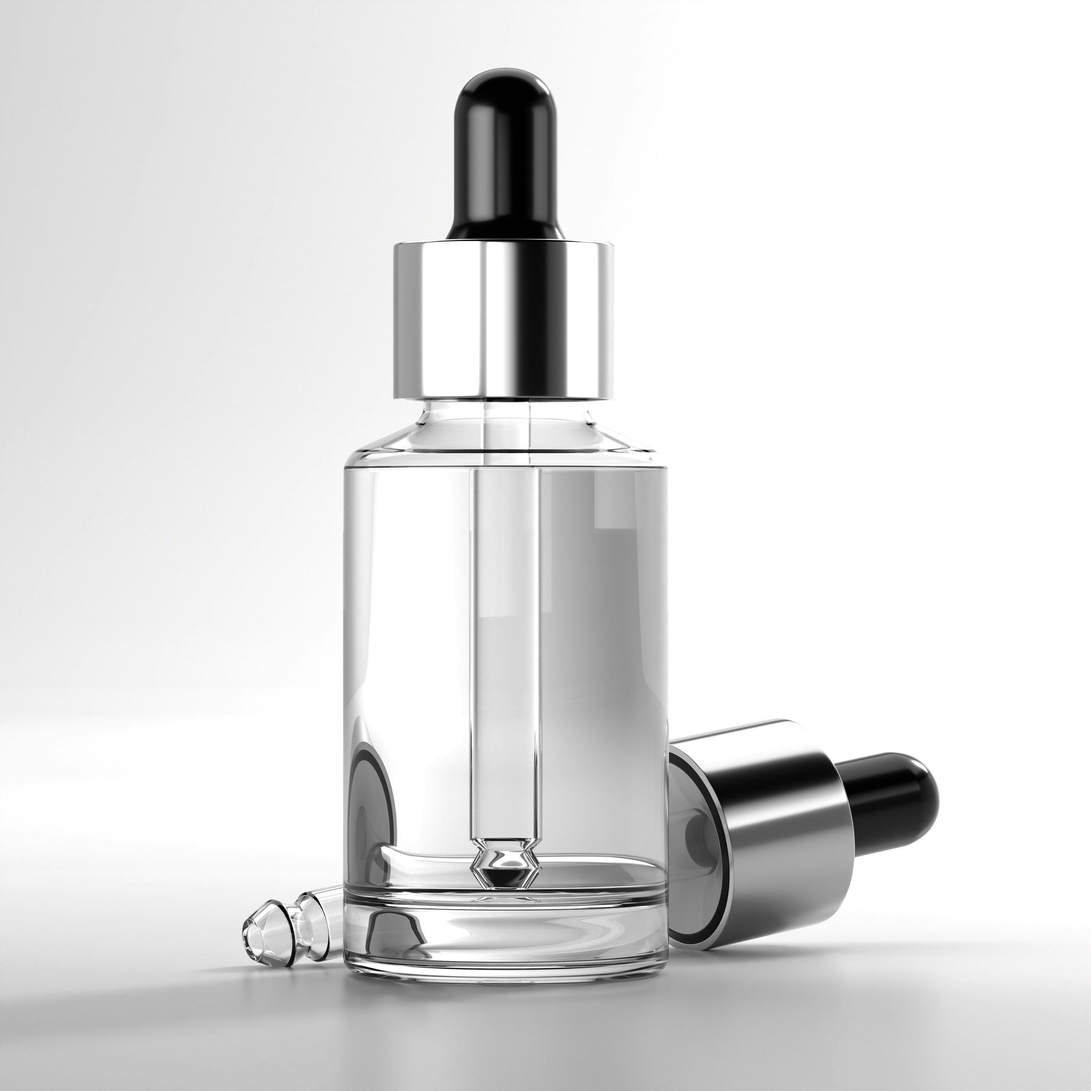Bottle-Detection: (211, 33, 793, 1051)
